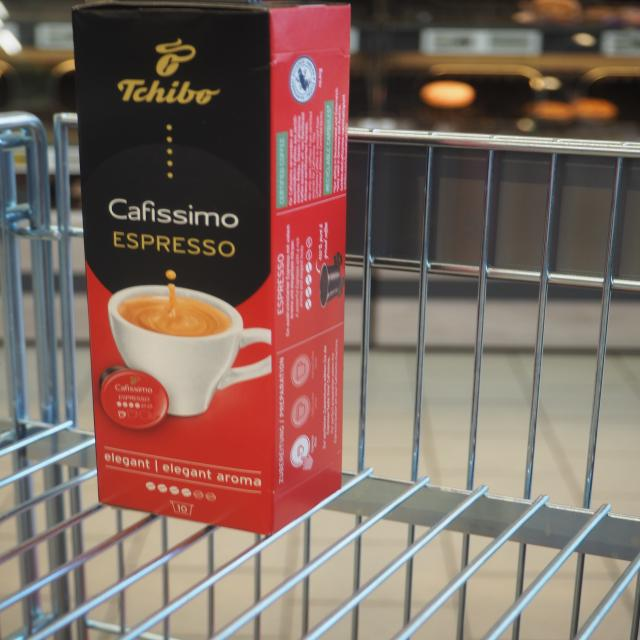Simo Es Elegant: (62, 0, 291, 547)
